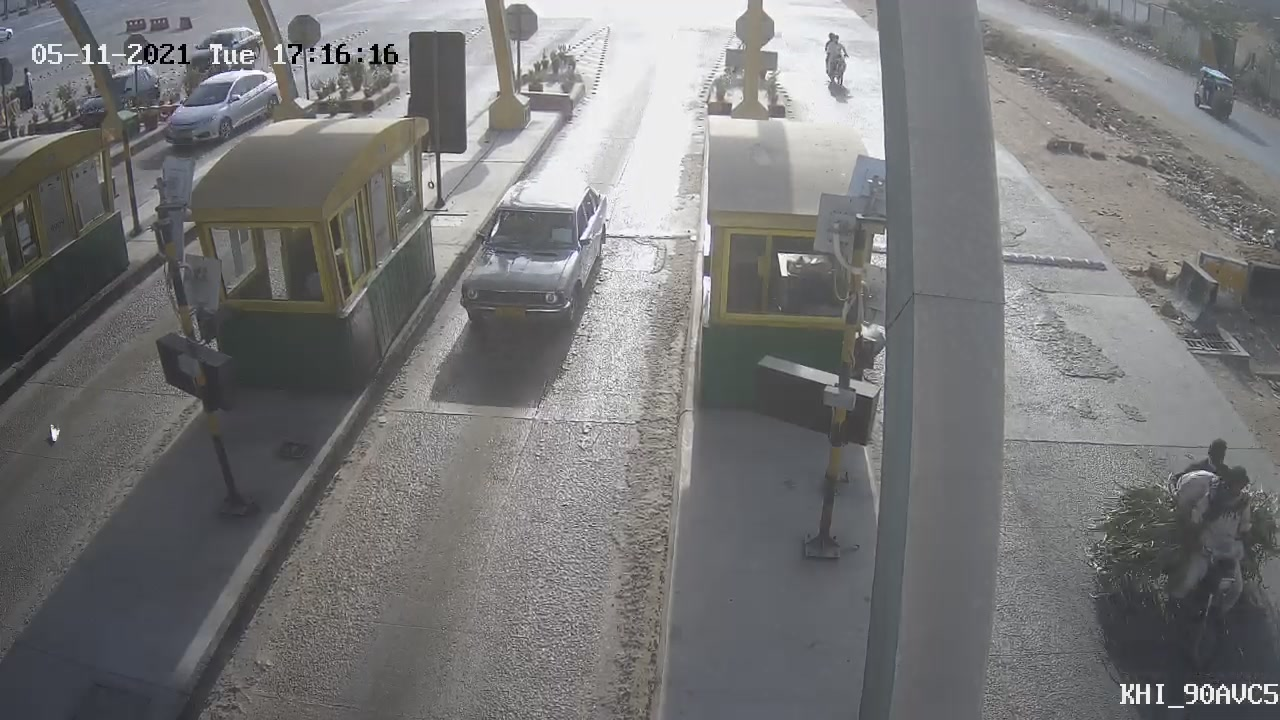F1: (437, 157, 624, 348)
